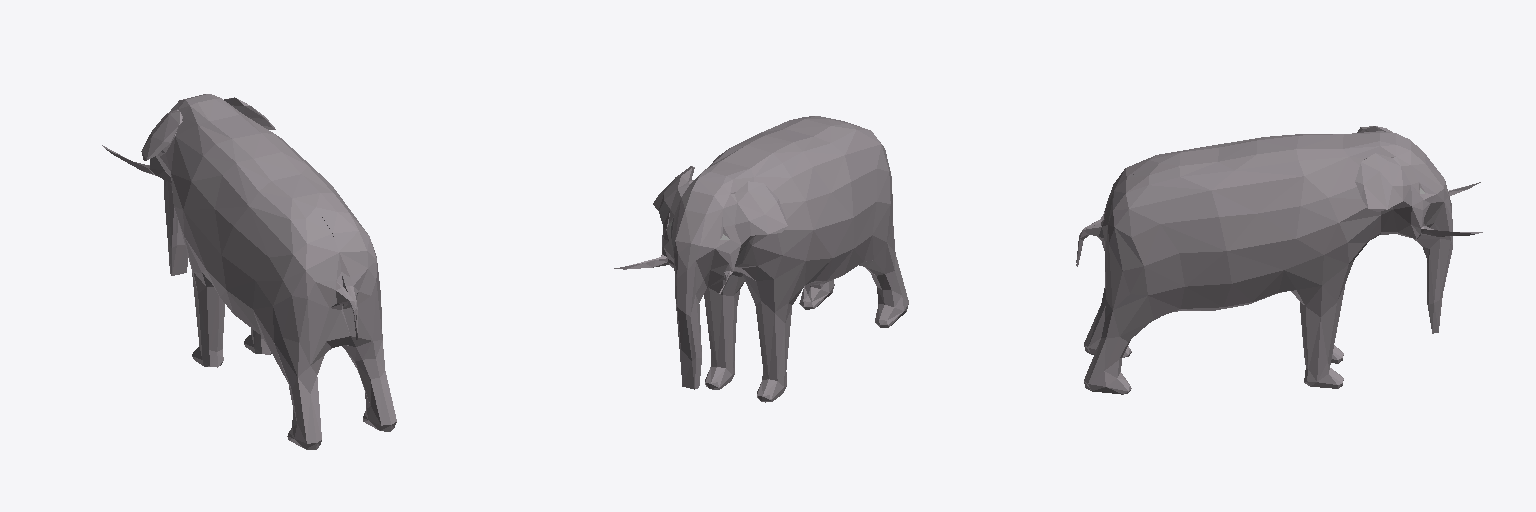
Rendered from olifant.obj.
The picture shows the model from 3 angles: view 1: azimuth 30°, elevation 25°; view 2: azimuth 150°, elevation 25°; view 3: azimuth 270°, elevation 25°; orthographic projection.
Parts seen in each view (by area): view 1: Plane; view 2: Plane; view 3: Plane.
Part boxes in pixels (bbox=[...]): Plane: bbox=[102, 94, 396, 449]; Plane: bbox=[614, 116, 908, 402]; Plane: bbox=[1076, 126, 1482, 394].
Size of the model in its own units: 3.77 by 6.63 by 10.31.